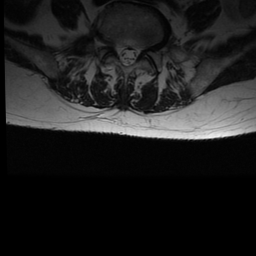CCS_normal: (124, 39, 132, 73)
LFS_stenosis: (140, 35, 148, 59)
LLS_normal: (132, 38, 140, 69)
RFS_stenosis: (107, 30, 115, 58)
RLS_normal: (115, 37, 124, 68)
